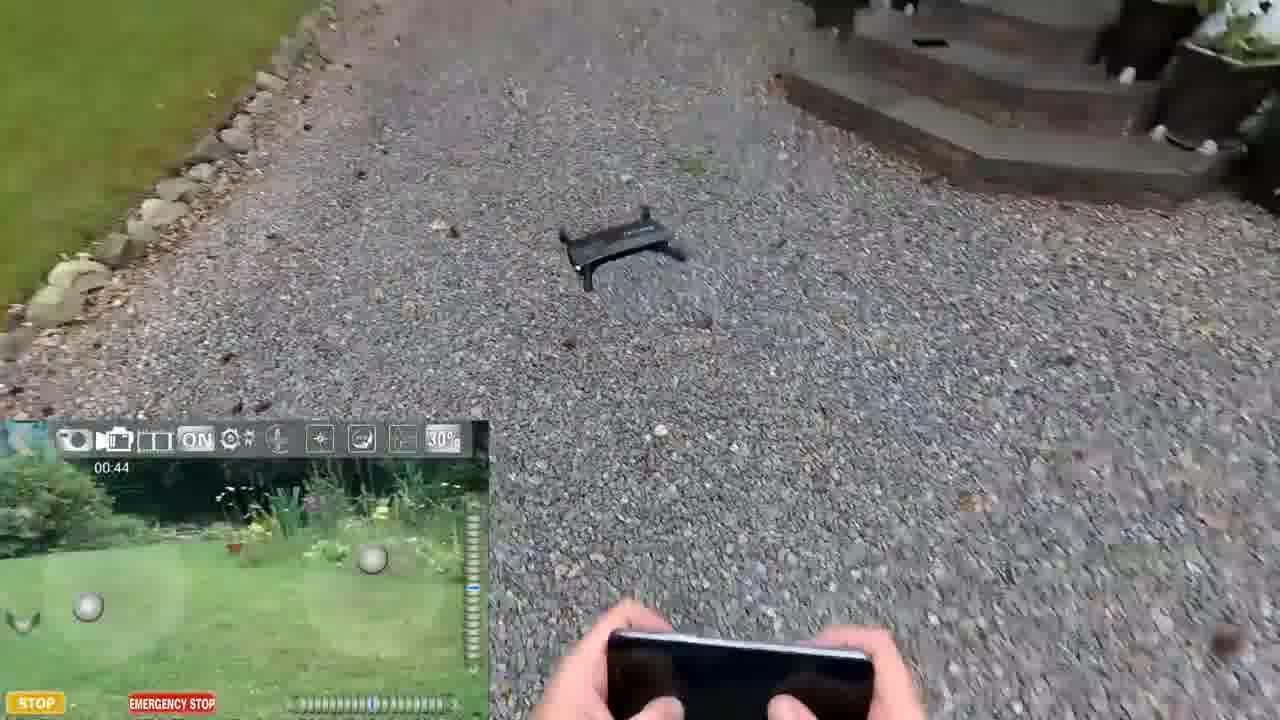drone: (522, 188, 700, 298)
